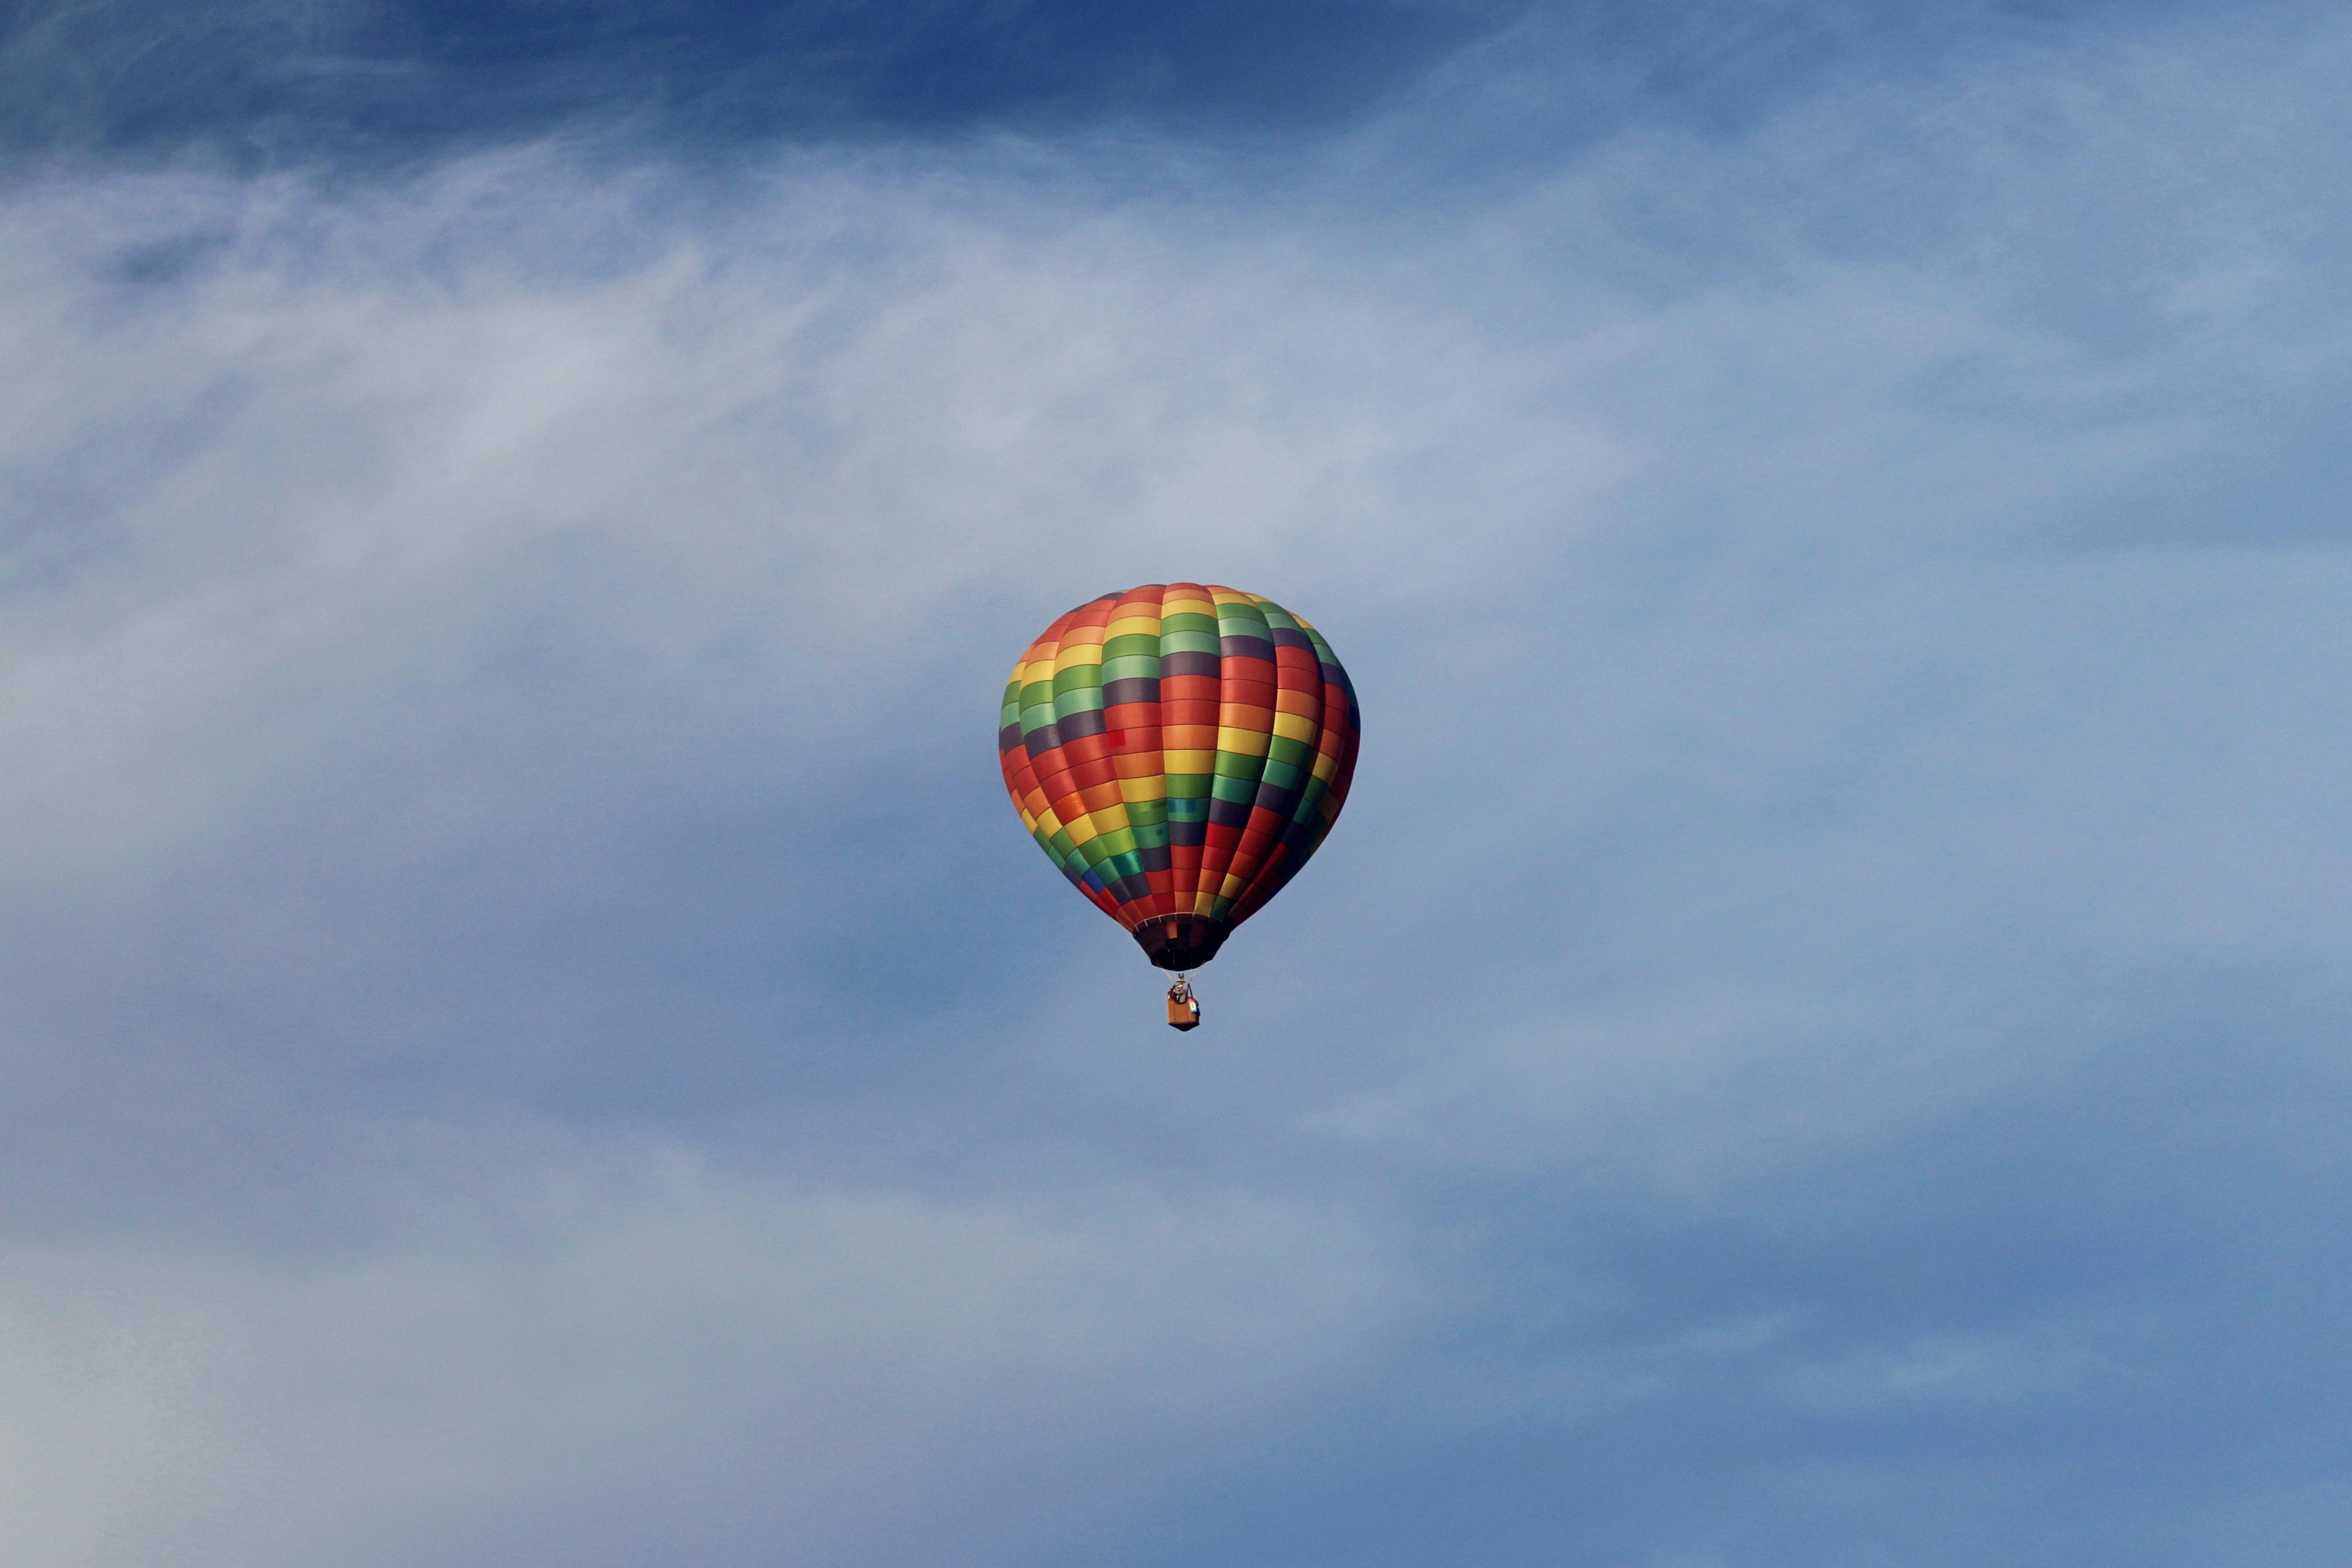hot air ballon: (1003, 584, 1361, 1034)
